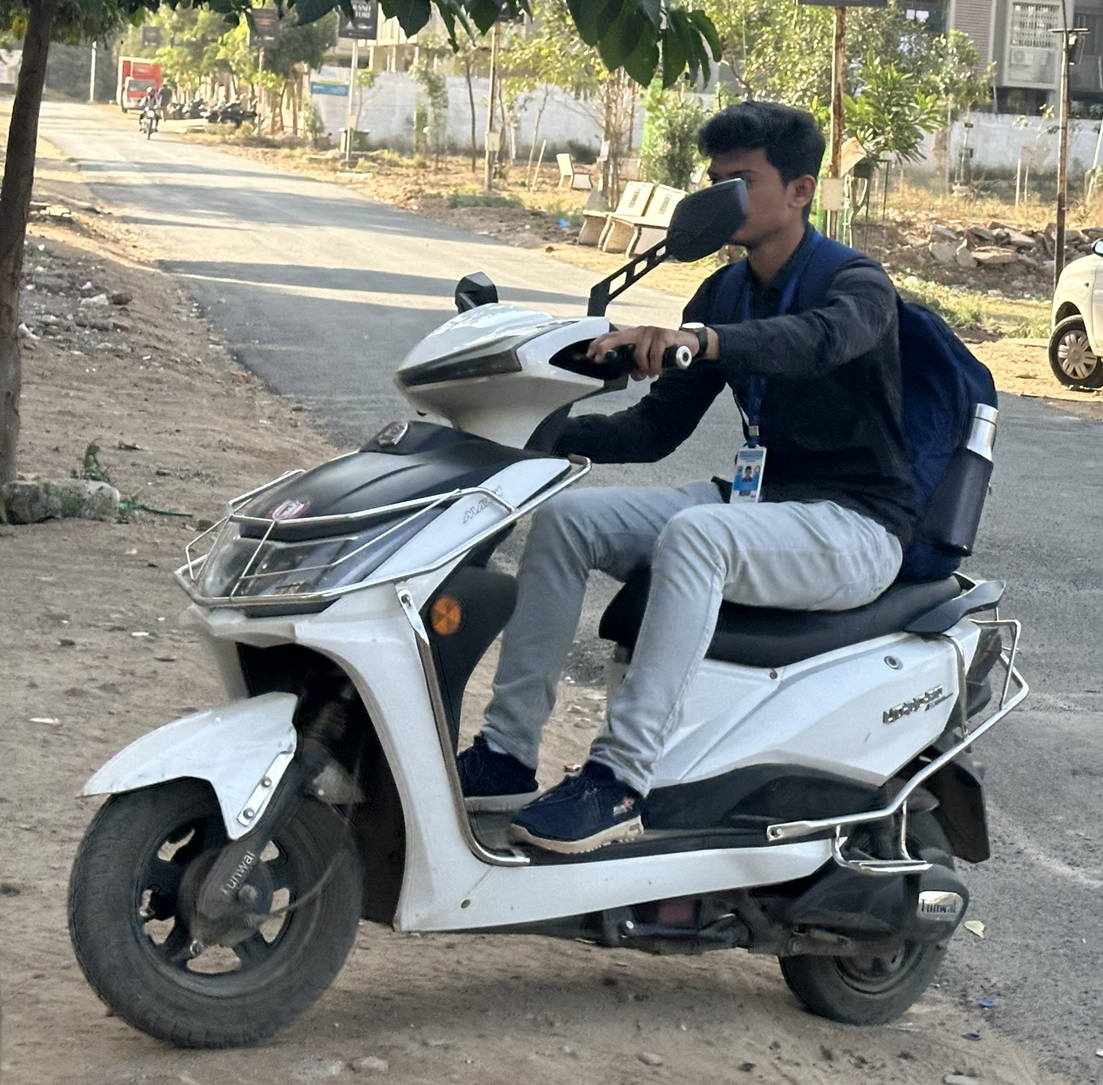BikeWithRider: (51, 75, 1049, 1071)
NoHelmet: (699, 87, 824, 259)
